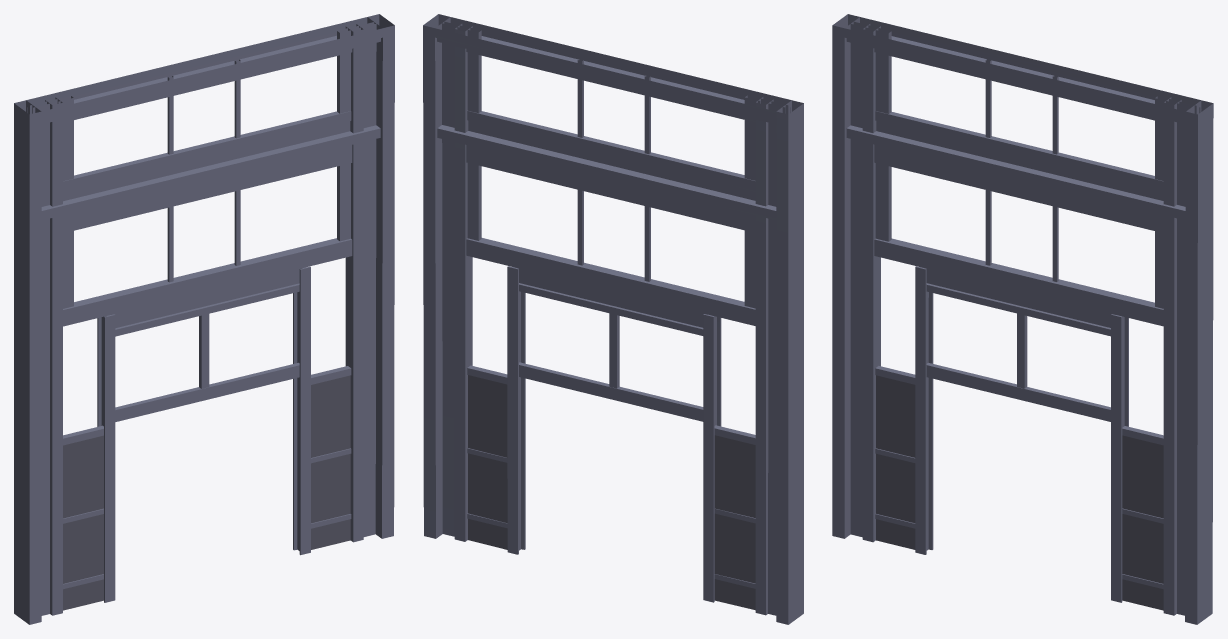
Rendered from SM_H_Building_Tide_Dock_Door_02_ATLAS.fbx.
3 views of the same model, side by side, from view 1: azimuth 30°, elevation 25°; view 2: azimuth 150°, elevation 25°; view 3: azimuth 330°, elevation 25° (orthographic).
Visible parts, largest first — view 1: SM_H_Building_Tide_Dock_Door_02_ATLAS; view 2: SM_H_Building_Tide_Dock_Door_02_ATLAS; view 3: SM_H_Building_Tide_Dock_Door_02_ATLAS.
Part boxes in pixels (bbox=[...]): SM_H_Building_Tide_Dock_Door_02_ATLAS: bbox=[14, 14, 394, 624]; SM_H_Building_Tide_Dock_Door_02_ATLAS: bbox=[423, 14, 803, 624]; SM_H_Building_Tide_Dock_Door_02_ATLAS: bbox=[832, 14, 1213, 624].
Size of the model in its own units: 559 by 40.97 by 746.
